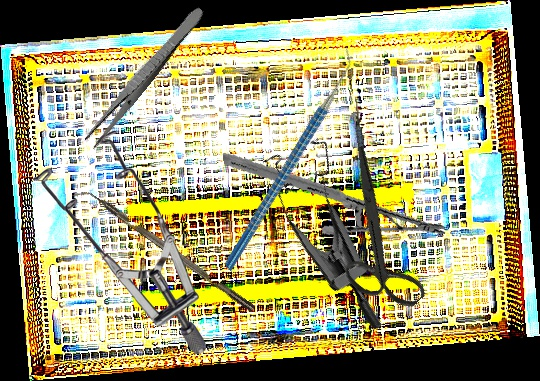Chopper: (164, 43, 411, 273), (72, 181, 256, 321)
Dressing Forceps: (81, 2, 207, 151)
Iris Scissors: (287, 145, 468, 327)
Needle Holder: (222, 114, 446, 275)
Spatula Surgical: (351, 99, 374, 228)
Speculum: (233, 119, 446, 335), (33, 131, 206, 354)
